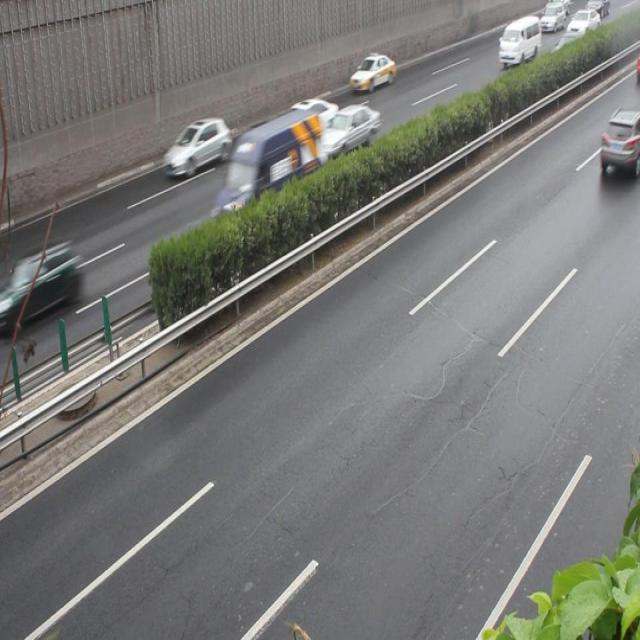car: (0, 237, 80, 327), (162, 114, 231, 175), (321, 103, 378, 157), (273, 98, 337, 146), (600, 107, 640, 175)
